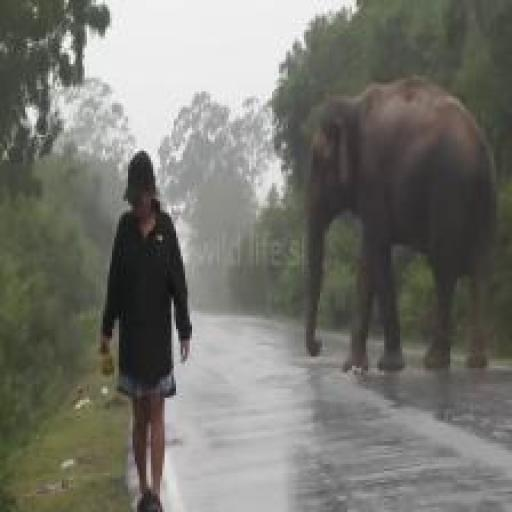Elephant: (272, 68, 499, 412)
